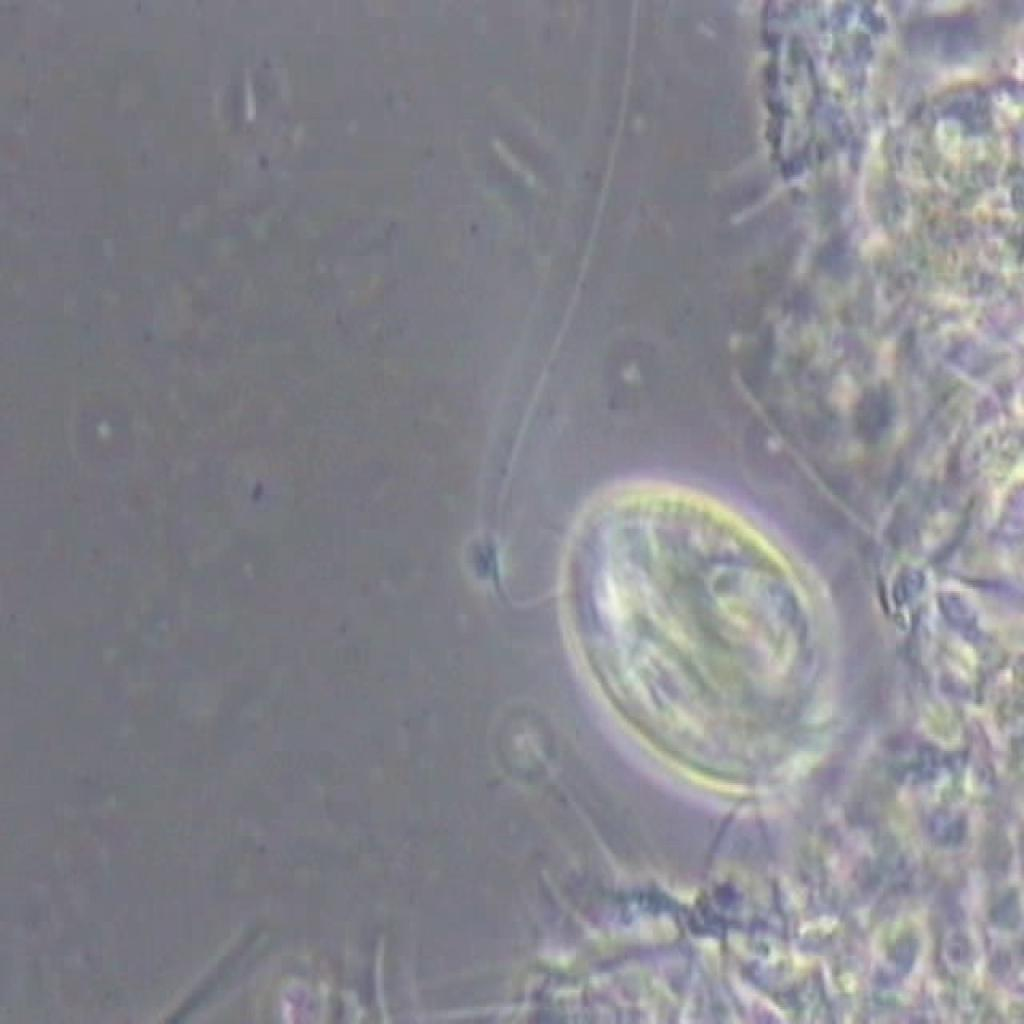Euplotes: (518, 461, 856, 836)
